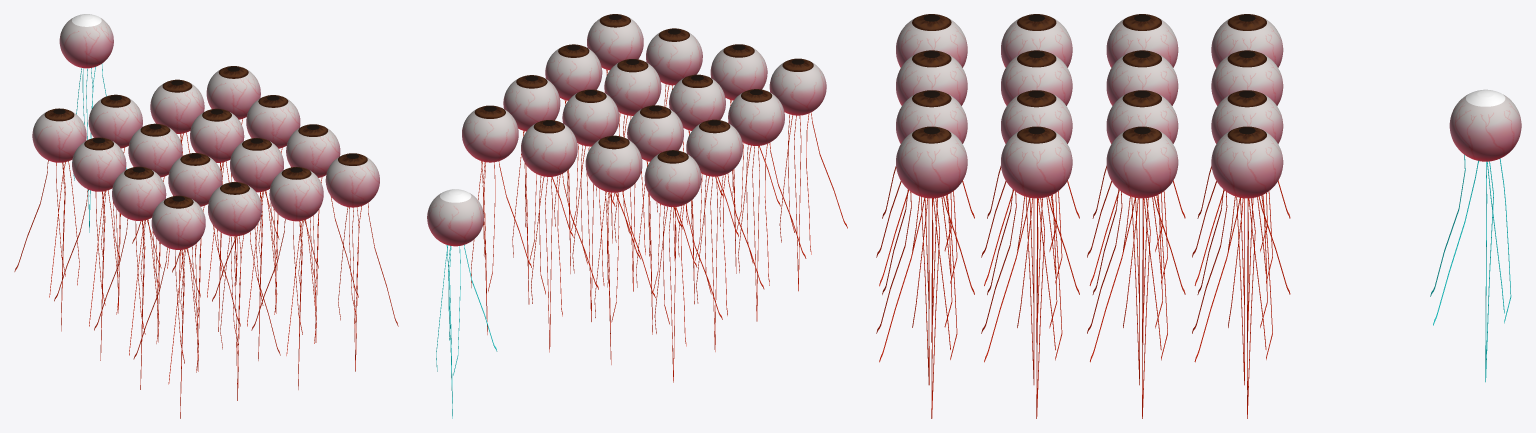
The model's file is eye.gltf.
The picture shows the model from 3 angles, left to right: view 1: azimuth 30°, elevation 25°; view 2: azimuth 150°, elevation 25°; view 3: azimuth 270°, elevation 25°; orthographic projection. The views are drawn at different scales.
Visible parts, largest first — view 1: Sphere.047, Sphere.050, Sphere.042, Sphere.024, Sphere.029, Sphere.023, Sphere.012, Sphere.035, Sphere, Sphere.011, Sphere.036, Sphere.018 (+20 smaller); view 2: Sphere.012, Sphere.017, Sphere.011, Sphere.050, Sphere.006, Sphere.024, Sphere.035, Sphere.023, Sphere.036, Sphere, Sphere.047, Sphere.041 (+19 smaller); view 3: Sphere.050, Sphere.006, Sphere.042, Sphere.005, Sphere.041, Sphere.018, Sphere.017, Sphere.029, Sphere.030, Sphere, Sphere.011, Sphere.023 (+18 smaller).
Boxes of the visible parts, x1,y1,x2,y2 form: Sphere.047: (269, 170, 323, 221); Sphere.050: (59, 18, 113, 68); Sphere.042: (325, 157, 379, 207); Sphere.024: (151, 199, 205, 249); Sphere.029: (208, 185, 261, 236); Sphere.023: (72, 141, 126, 191); Sphere.012: (32, 112, 86, 162); Sphere.035: (112, 170, 166, 220); Sphere: (190, 112, 244, 162); Sphere.011: (150, 83, 204, 133); Sphere.036: (230, 141, 283, 192); Sphere.018: (128, 127, 182, 177); Sphere.012: (644, 153, 701, 206); Sphere.017: (585, 139, 642, 192); Sphere.011: (521, 123, 577, 176); Sphere.050: (427, 193, 483, 246); Sphere.006: (462, 109, 518, 162); Sphere.024: (769, 62, 826, 115); Sphere.035: (728, 93, 784, 145); Sphere.023: (686, 123, 742, 176); Sphere.036: (604, 63, 661, 115); Sphere: (562, 93, 619, 146); Sphere.047: (646, 32, 702, 85); Sphere.041: (545, 48, 602, 100); Sphere.050: (1449, 94, 1521, 161); Sphere.006: (1211, 131, 1283, 198); Sphere.042: (896, 131, 967, 198); Sphere.005: (1106, 131, 1178, 198); Sphere.041: (1001, 131, 1072, 198); Sphere.018: (1106, 54, 1178, 105); Sphere.017: (1211, 55, 1283, 105); Sphere.029: (896, 54, 967, 105); Sphere.030: (1001, 55, 1072, 105); Sphere: (1106, 94, 1178, 143); Sphere.011: (1211, 94, 1283, 143); Sphere.023: (1106, 18, 1178, 67).
Bounding box in the file's own units: 9.72 × 8.93 × 17.93.
Materials: 47 (12 with a texture image).
